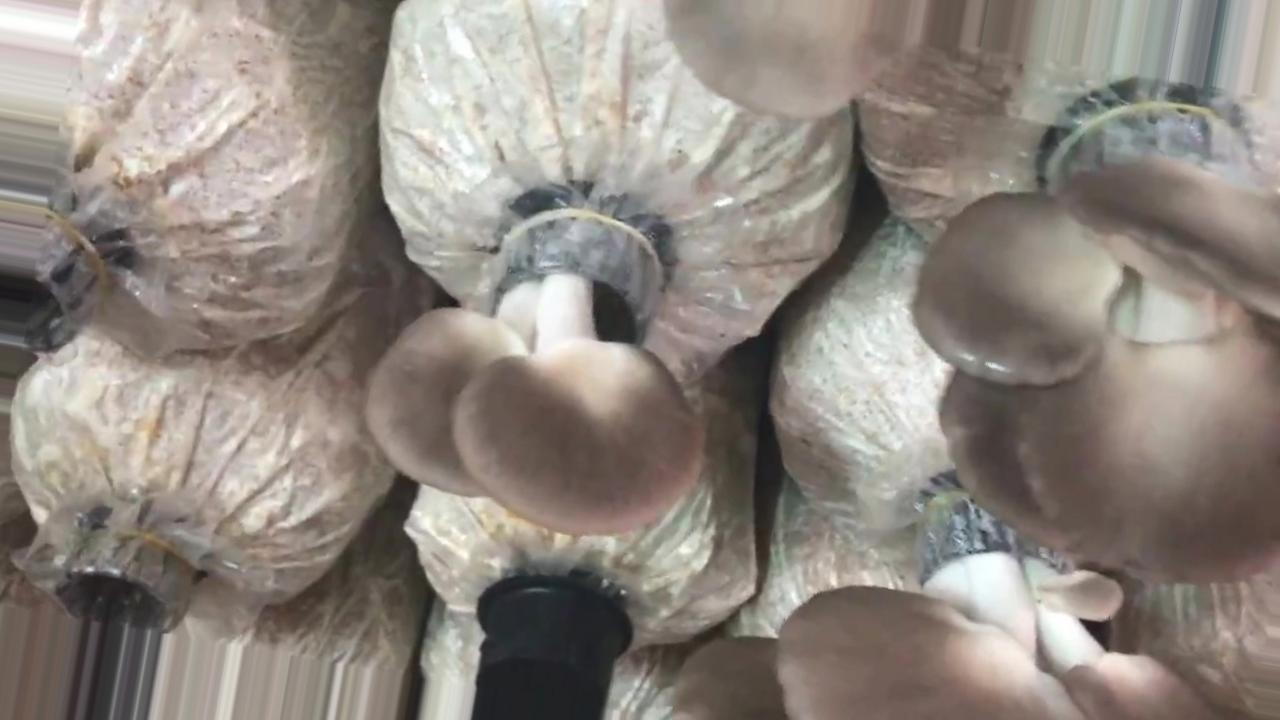nam: (916, 84, 1280, 577), (678, 474, 1201, 720), (370, 210, 706, 539)
